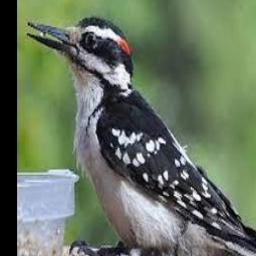Woodpecker: (26, 16, 256, 256)
